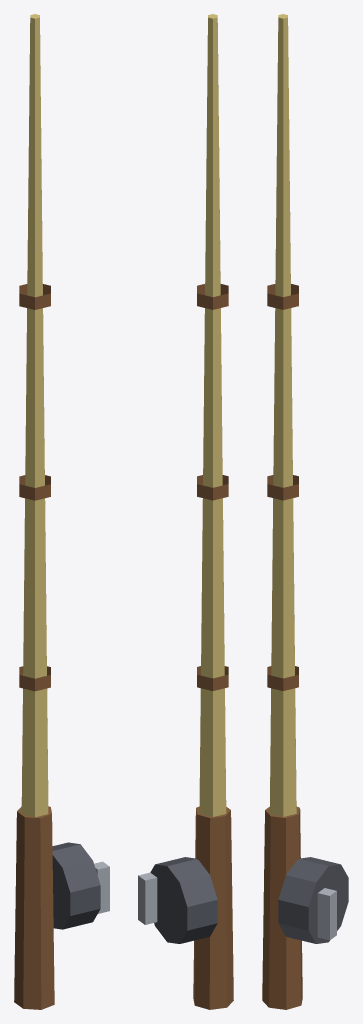
File: fishing_rod.obj
3 views of the same model, side by side, from view 1: azimuth 30°, elevation 25°; view 2: azimuth 210°, elevation 25°; view 3: azimuth 330°, elevation 25° (orthographic).
Parts seen in each view (by area): view 1: item; view 2: item; view 3: item.
Part boxes in pixels (x1,y1,x2,y2): item: (14,14,109,1009); item: (138,14,233,1009); item: (262,14,348,1009).
Size of the model in its own units: 0.127 by 1.55 by 0.1142.
